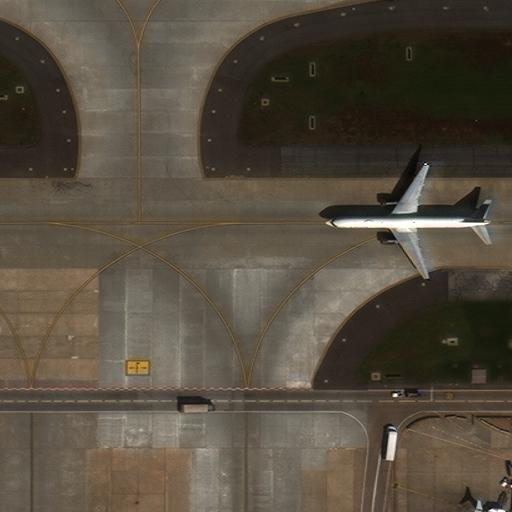Large Civil Transport: (324, 162, 491, 279)
